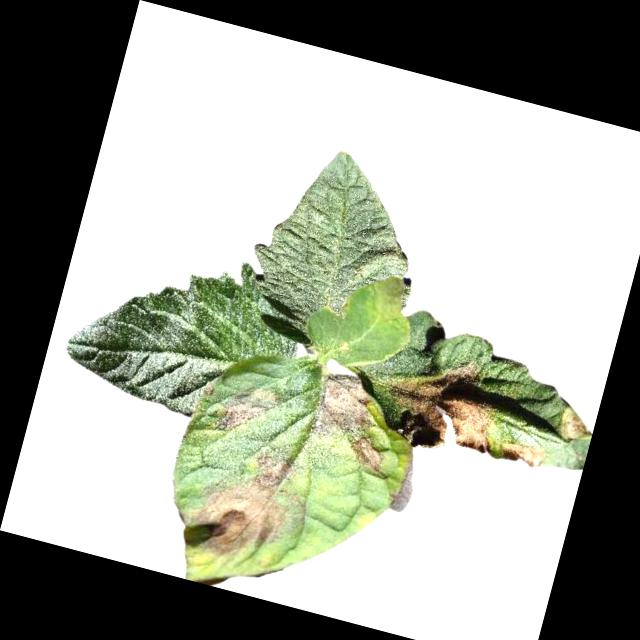Late_blight: (170, 433, 318, 574), (373, 342, 508, 465), (308, 367, 382, 449), (216, 377, 285, 442), (365, 271, 411, 327), (494, 435, 547, 475), (553, 404, 595, 449), (346, 431, 387, 473)
healthy: (53, 222, 314, 438), (233, 135, 442, 366)
